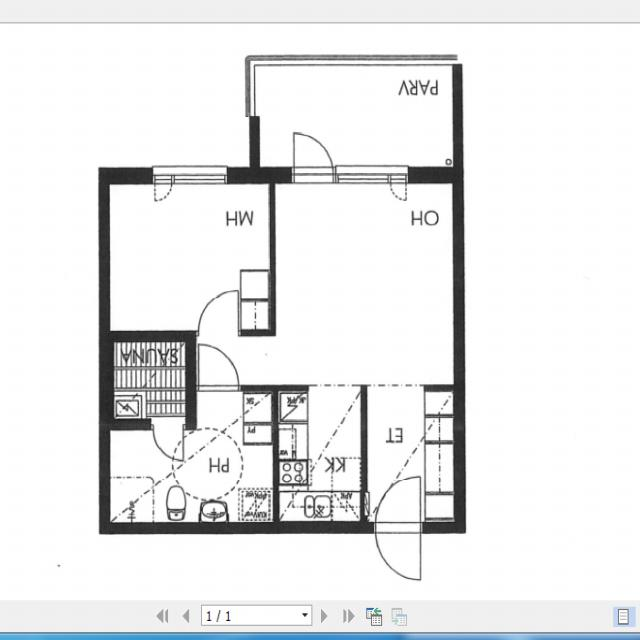door: (375, 471, 420, 534), (375, 522, 420, 584), (294, 122, 333, 184), (198, 340, 238, 391), (198, 286, 237, 336), (153, 419, 183, 463)
